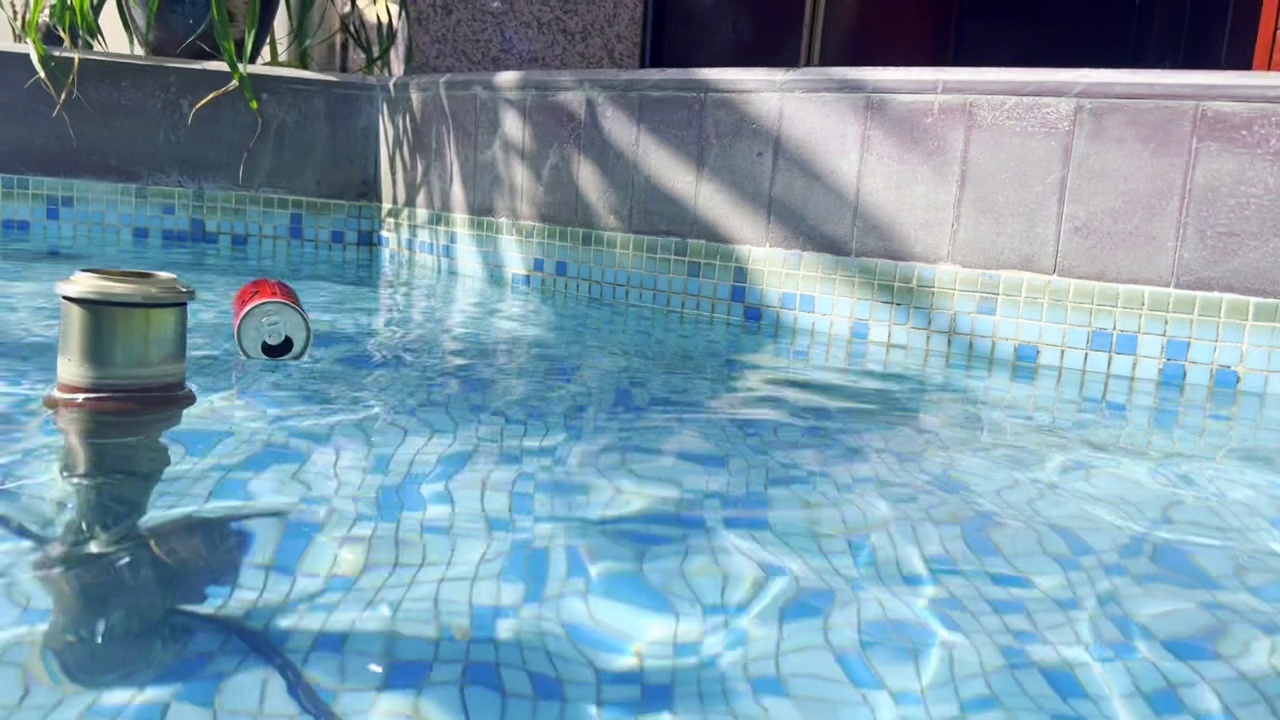debris: (223, 269, 319, 369)
